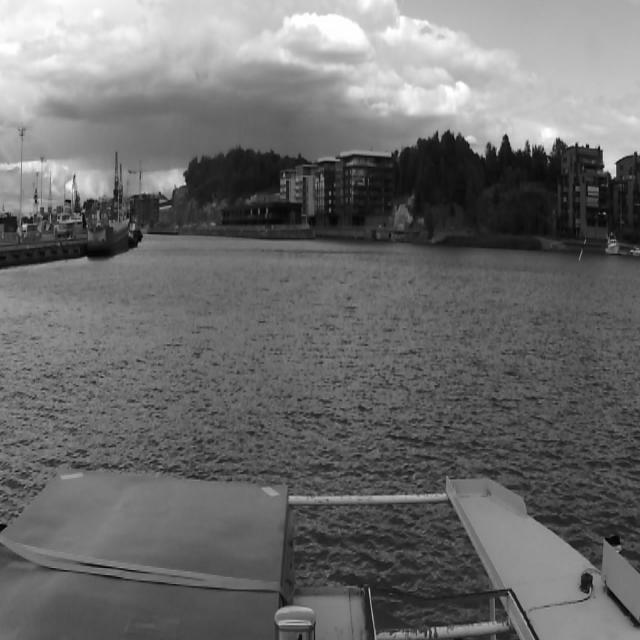buoy: (577, 236, 587, 262)
ship: (81, 198, 132, 262), (603, 231, 621, 257)
